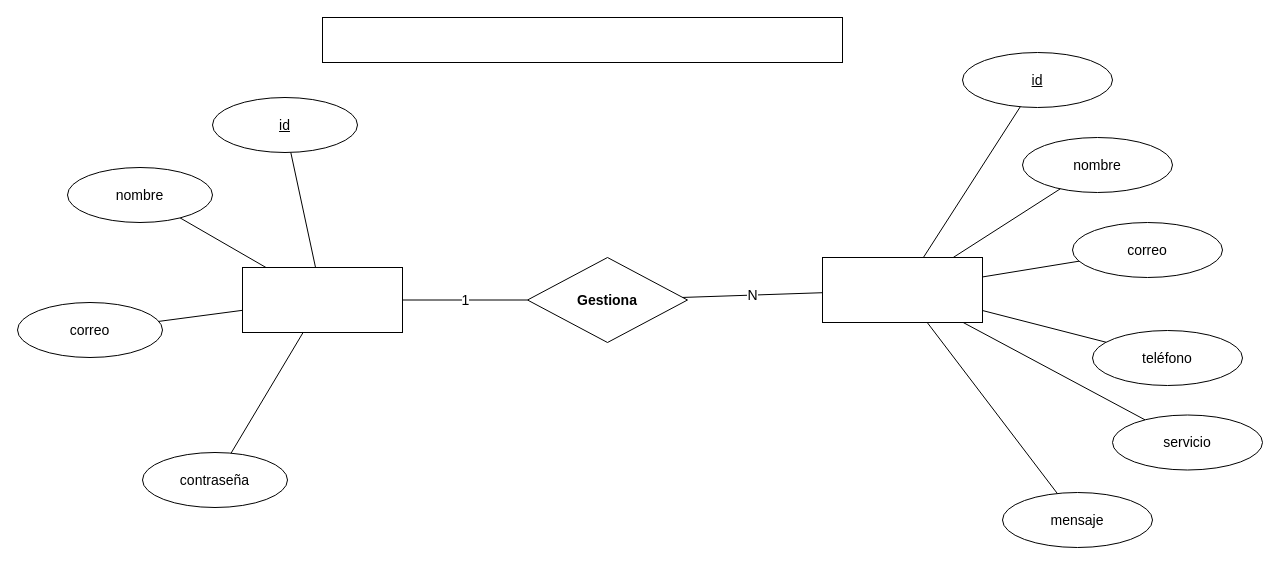
Some shapes in this 1280 by 565 pixel diagram are drawn without their labels. The box of each missing label's shape, as (x1, y1, x2, y2) in pixels:
DIAGRAMA ENTIDAD–RELACIÓN | JH7 SRL: (322, 16, 842, 62)
Solicitud: (822, 256, 982, 322)
Usuario: (242, 266, 402, 332)
